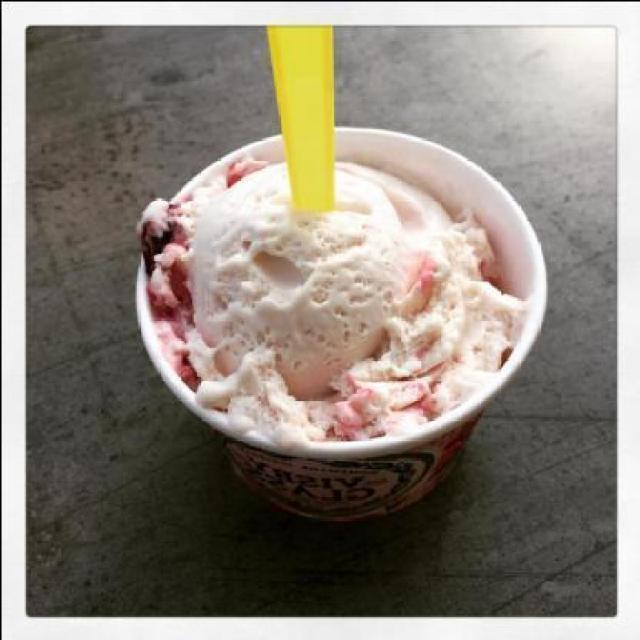Ice Cream: (128, 152, 526, 442)
